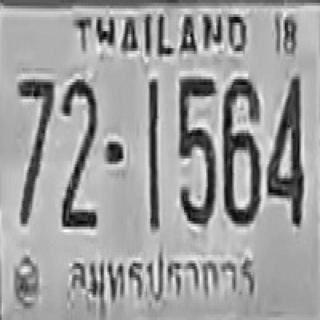N01: (147, 76, 158, 230)
N02: (59, 76, 96, 226)
N04: (266, 74, 303, 224)
N05: (178, 74, 214, 224)
N06: (222, 76, 260, 224)
N07: (16, 76, 53, 224)
P57: (66, 248, 261, 311)
